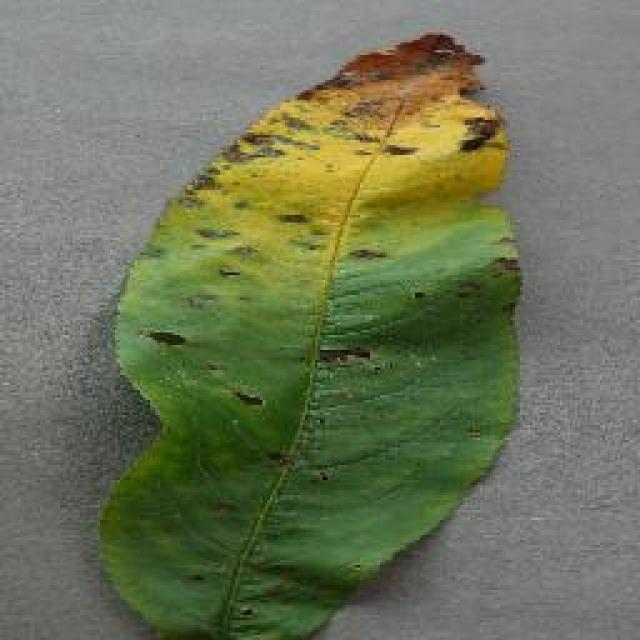Peach_Bacterial_Spot: (222, 78, 472, 315)
